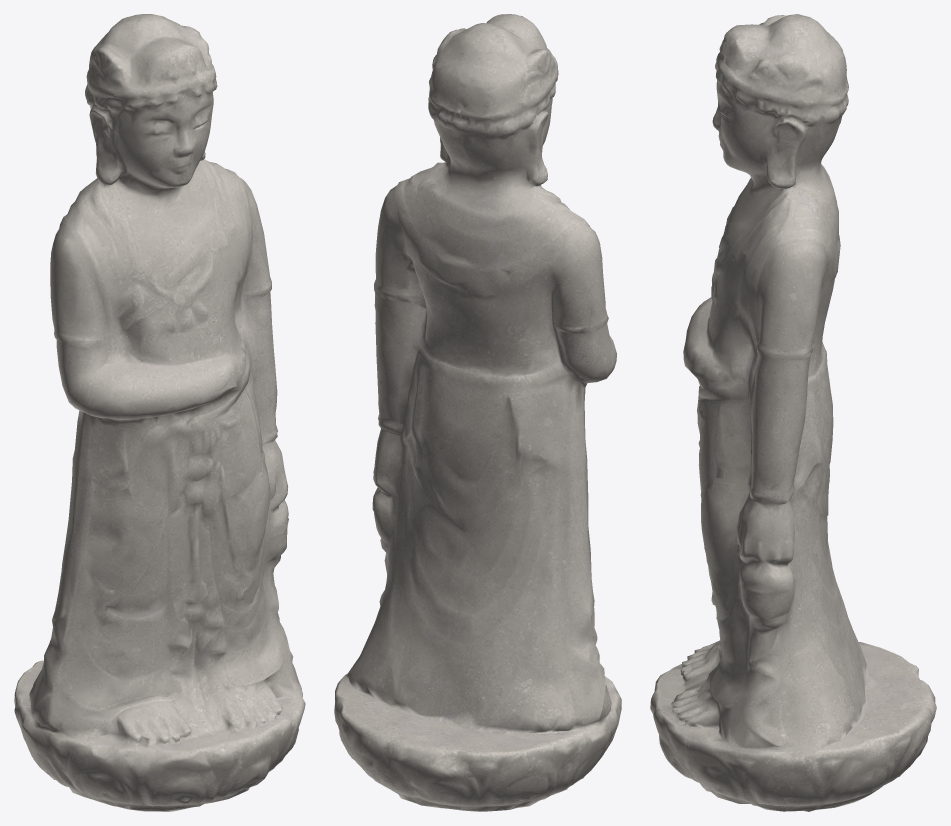
Rendered from gwaneum.glb.
The picture shows the model from 3 angles, left to right: view 1: azimuth 30°, elevation 25°; view 2: azimuth 150°, elevation 25°; view 3: azimuth 270°, elevation 25°; orthographic projection.
Visible parts, largest first — view 1: SM_StoneStatueofAvalokitesvara_01_Low; view 2: SM_StoneStatueofAvalokitesvara_01_Low; view 3: SM_StoneStatueofAvalokitesvara_01_Low.
Part boxes in pixels (bbox=[...]): SM_StoneStatueofAvalokitesvara_01_Low: bbox=[14, 14, 305, 811]; SM_StoneStatueofAvalokitesvara_01_Low: bbox=[334, 14, 621, 811]; SM_StoneStatueofAvalokitesvara_01_Low: bbox=[650, 14, 936, 811].
Bounding box in the file's own units: 0.6007 × 1.7 × 0.5924.
1 material, 1 textured.
